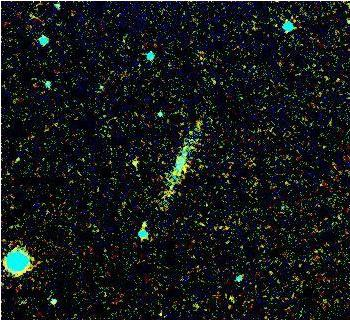star: (123, 146, 153, 176)
